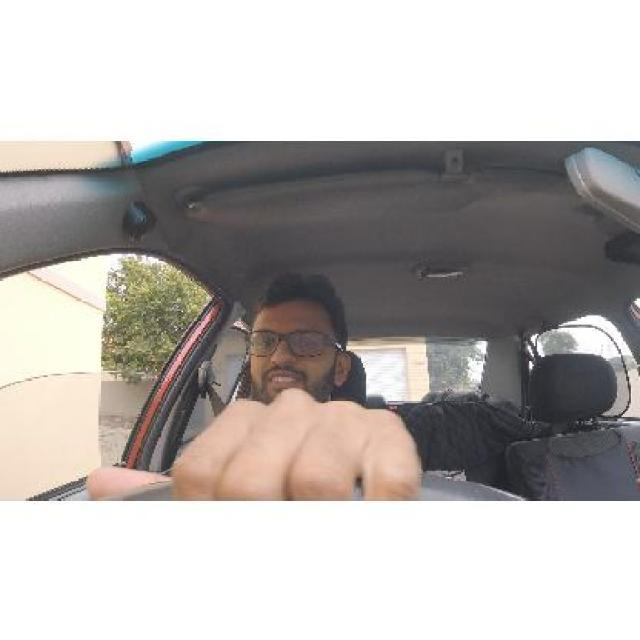person: (245, 266, 360, 406)
